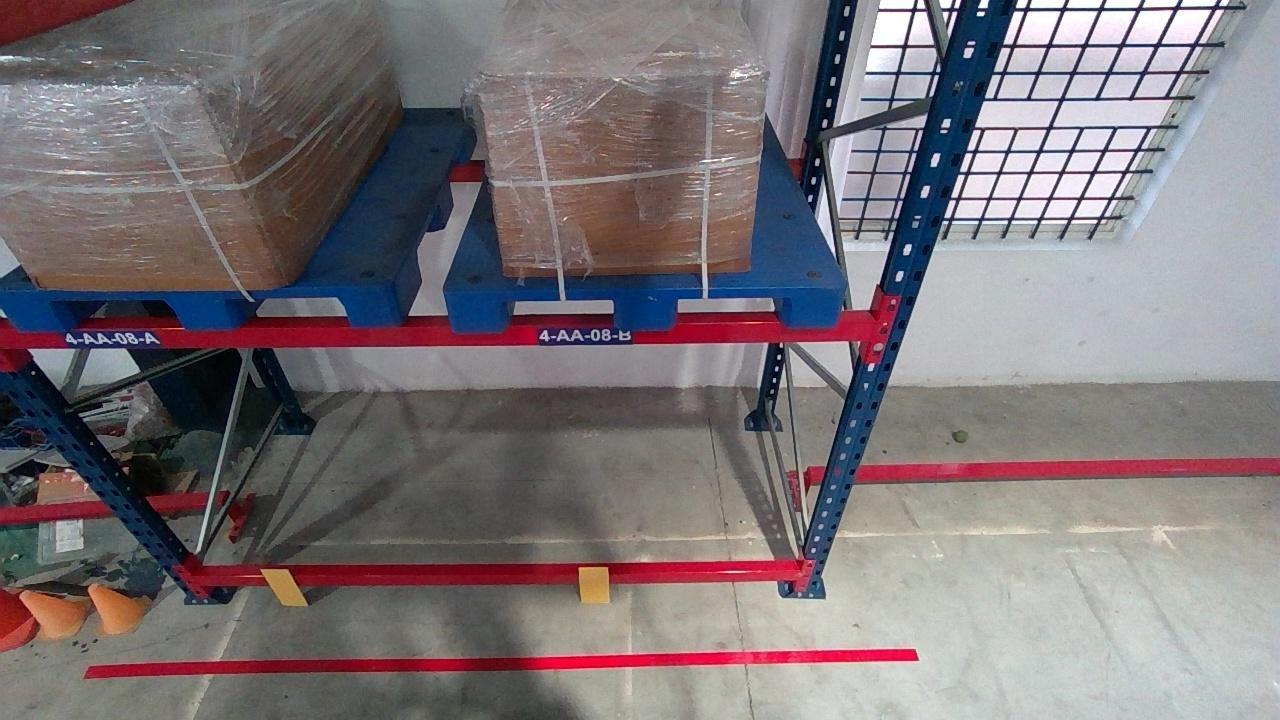h_rack: (3, 318, 875, 347), (186, 567, 802, 586)
orange_strip: (257, 568, 309, 606), (576, 566, 609, 603)
red_line: (84, 648, 920, 674)
small_pallet: (0, 286, 399, 329), (443, 286, 842, 327)
